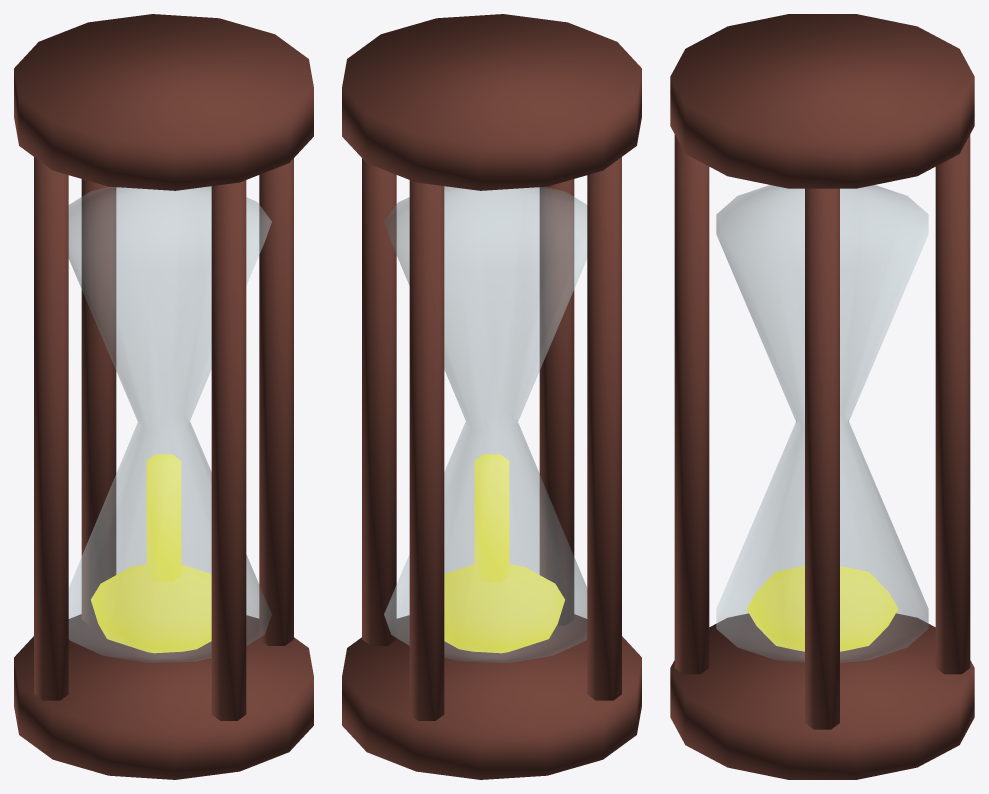
The model's file is hourglass_sand_small.glb.
3 views of the same model, side by side, from view 1: azimuth 30°, elevation 25°; view 2: azimuth 150°, elevation 25°; view 3: azimuth 270°, elevation 25° (orthographic).
Visible parts, largest first — view 1: GD_hourglass_sand_small__m0, GD_hourglass_sand_small__m1, GD_hourglass_sand_small__m2; view 2: GD_hourglass_sand_small__m0, GD_hourglass_sand_small__m1, GD_hourglass_sand_small__m2; view 3: GD_hourglass_sand_small__m0, GD_hourglass_sand_small__m1, GD_hourglass_sand_small__m2.
Part boxes in pixels (box(x1,y1,x2,y2)): GD_hourglass_sand_small__m0: box(14, 14, 313, 779); GD_hourglass_sand_small__m1: box(68, 186, 271, 662); GD_hourglass_sand_small__m2: box(91, 454, 211, 653); GD_hourglass_sand_small__m0: box(342, 14, 641, 779); GD_hourglass_sand_small__m1: box(384, 186, 587, 662); GD_hourglass_sand_small__m2: box(444, 454, 564, 653); GD_hourglass_sand_small__m0: box(670, 14, 974, 779); GD_hourglass_sand_small__m1: box(716, 185, 928, 662); GD_hourglass_sand_small__m2: box(746, 566, 898, 651).
Bounding box in the file's own units: 0.1365 × 0.325 × 0.14.
